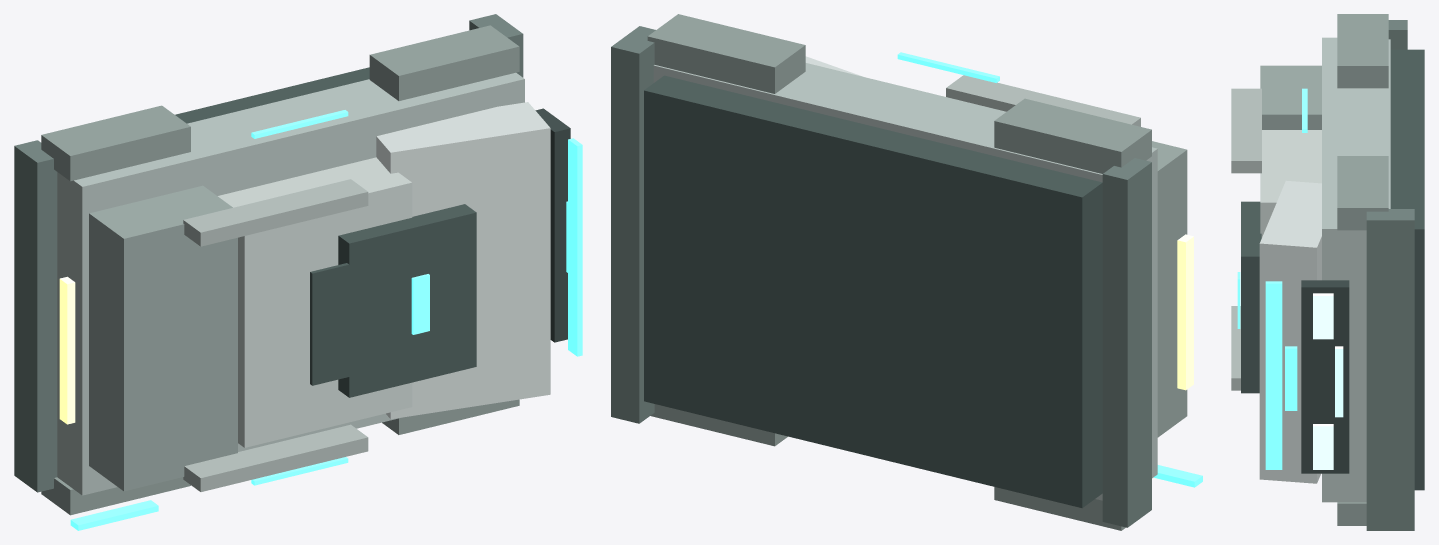
File: chassis.glb
3 renders of one model, left to right at view 1: azimuth 30°, elevation 25°; view 2: azimuth 150°, elevation 25°; view 3: azimuth 270°, elevation 25°, orthographic. The views are drawn at different scales.
Visible parts, largest first — view 1: rear_power_bay, sloped_nose, lower_body, center_deck, rear_bumper, sensor_deck, ro2_service_glass, left_front_fender, left_rear_fender, left_cargo_rail, right_cargo_rail, front_face (+10 smaller); view 2: structural_pan, rear_bumper, lower_body, front_bumper, left_front_fender, left_rear_fender, rear_power_bay, left_cargo_rail, rear_status, right_rear_fender, right_front_fender, ro2_side_trim_left; view 3: front_bumper, lower_body, sloped_nose, structural_pan, front_face, center_deck, left_rear_fender, rear_power_bay, sensor_deck, left_front_fender, ro2_front_sensor_band, left_cargo_rail (+8 smaller).
Part boxes in pixels (bbox=[...]): rear_power_bay: bbox=[89, 185, 237, 491]; sloped_nose: bbox=[376, 102, 550, 419]; lower_body: bbox=[57, 72, 524, 495]; center_deck: bbox=[218, 157, 412, 447]; rear_bumper: bbox=[14, 140, 57, 492]; sensor_deck: bbox=[338, 204, 476, 397]; ro2_service_glass: bbox=[310, 251, 406, 385]; left_front_fender: bbox=[369, 25, 519, 100]; left_rear_fender: bbox=[41, 105, 190, 181]; left_cargo_rail: bbox=[183, 179, 368, 246]; right_cargo_rail: bbox=[183, 424, 368, 491]; front_face: bbox=[535, 108, 570, 342]; structural_pan: bbox=[644, 75, 1102, 508]; rear_bumper: bbox=[1102, 158, 1151, 527]; lower_body: bbox=[653, 63, 1157, 500]; front_bumper: bbox=[611, 26, 655, 423]; left_front_fender: bbox=[647, 14, 805, 93]; left_rear_fender: bbox=[994, 98, 1151, 173]; rear_power_bay: bbox=[1152, 141, 1187, 437]; left_cargo_rail: bbox=[946, 75, 1140, 126]; rear_status: bbox=[1177, 234, 1193, 390]; right_rear_fender: bbox=[994, 487, 1125, 530]; right_front_fender: bbox=[650, 404, 787, 446]; ro2_side_trim_left: bbox=[897, 52, 999, 82]; front_bumper: bbox=[1366, 209, 1414, 530]; lower_body: bbox=[1322, 37, 1390, 502]; sloped_nose: bbox=[1259, 180, 1321, 483]; structural_pan: bbox=[1390, 49, 1424, 490]; front_face: bbox=[1301, 280, 1349, 473]; center_deck: bbox=[1260, 130, 1321, 237]; left_rear_fender: bbox=[1337, 14, 1388, 88]; rear_power_bay: bbox=[1260, 65, 1321, 129]; sensor_deck: bbox=[1241, 201, 1261, 393]; left_front_fender: bbox=[1337, 156, 1388, 230]; ro2_front_sensor_band: bbox=[1265, 281, 1282, 469]; left_cargo_rail: bbox=[1231, 88, 1261, 173].
Bounding box in the file's own units: 0.758 × 0.512 × 0.2825.
